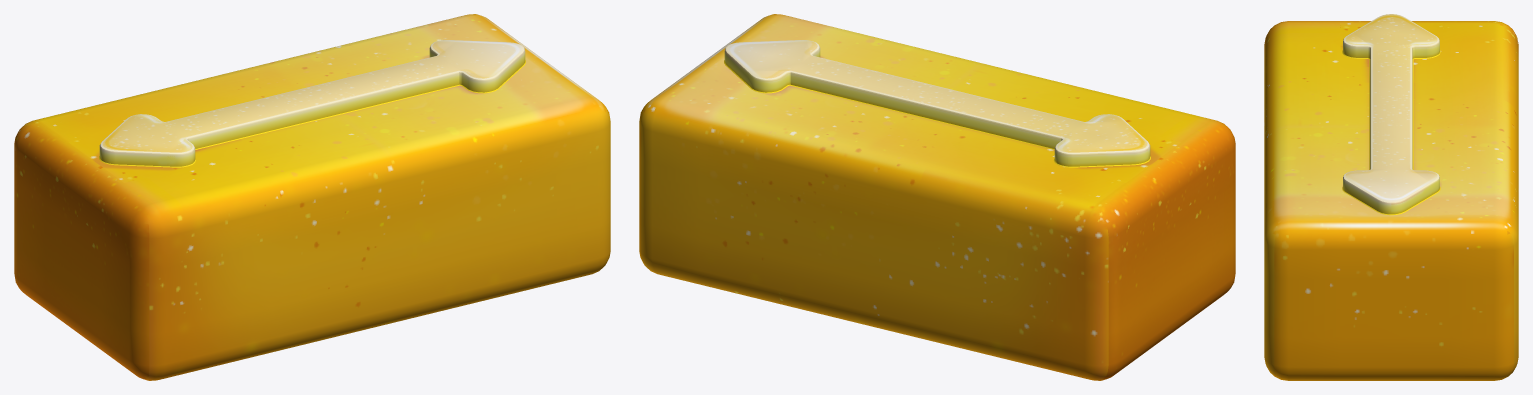
The picture shows the model from 3 angles, left to right: view 1: azimuth 30°, elevation 25°; view 2: azimuth 150°, elevation 25°; view 3: azimuth 270°, elevation 25°; orthographic projection. The views are drawn at different scales.
Visible parts, largest first — view 1: Cube2New; view 2: Cube2New; view 3: Cube2New.
Boxes of the visible parts, bbox=[...] form: Cube2New: bbox=[14, 14, 610, 380]; Cube2New: bbox=[639, 14, 1235, 380]; Cube2New: bbox=[1264, 14, 1518, 380].
Size of the model in its own units: 200 by 75.38 by 100.
